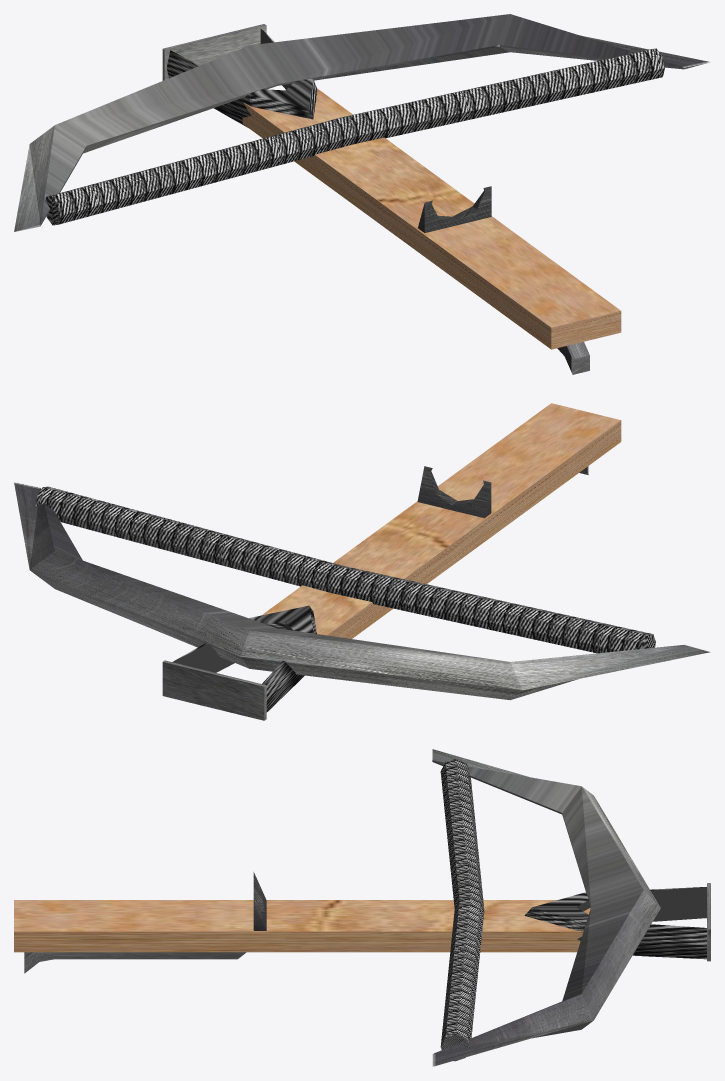
File: Crossbow36.obj
3 renders of one model, top to bottom at view 1: azimuth 30°, elevation 25°; view 2: azimuth 150°, elevation 25°; view 3: azimuth 270°, elevation 25°, orthographic. The views are drawn at different scales.
Visible parts, largest first — view 1: Sphere; view 2: Sphere; view 3: Sphere.
Part boxes in pixels (x1,y1,x2,y2): Sphere: (14,14,710,374); Sphere: (14,403,710,720); Sphere: (14,749,710,1066).
Bounding box in the file's own units: 5.04 × 0.6142 × 4.67.
